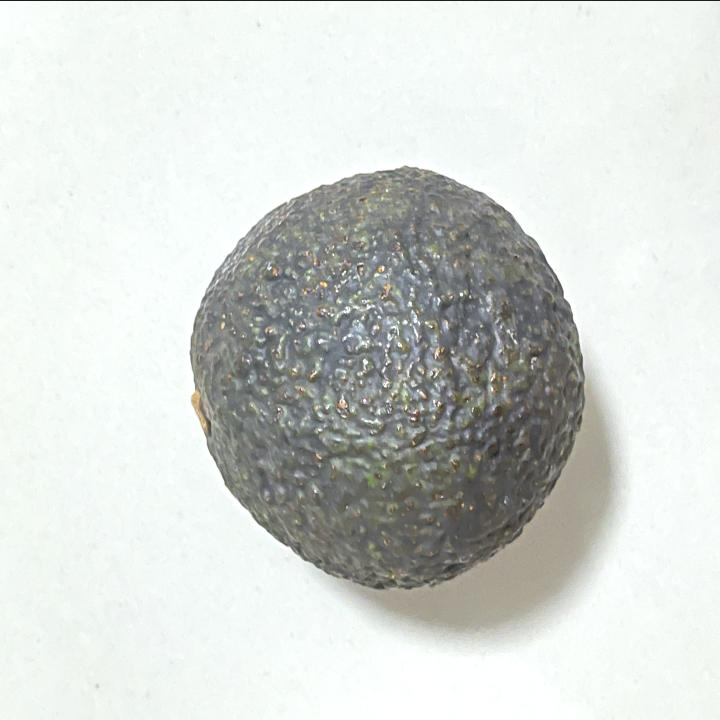Level1: (173, 146, 602, 604)
